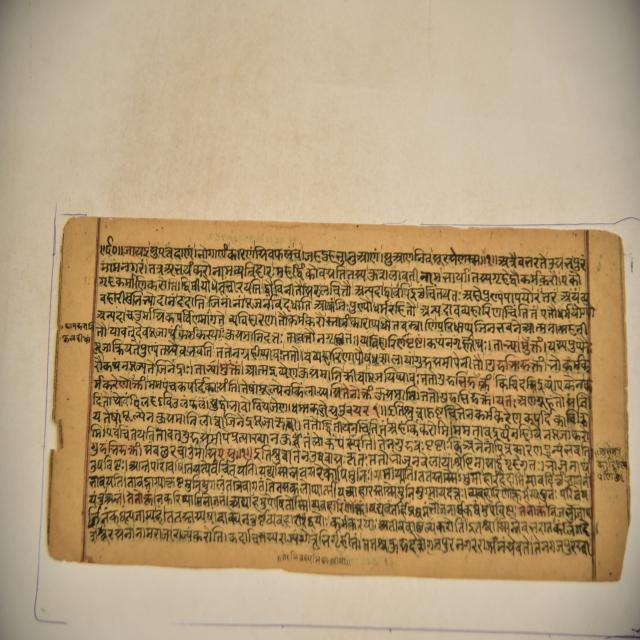text_paragraph: (39, 213, 629, 582)
